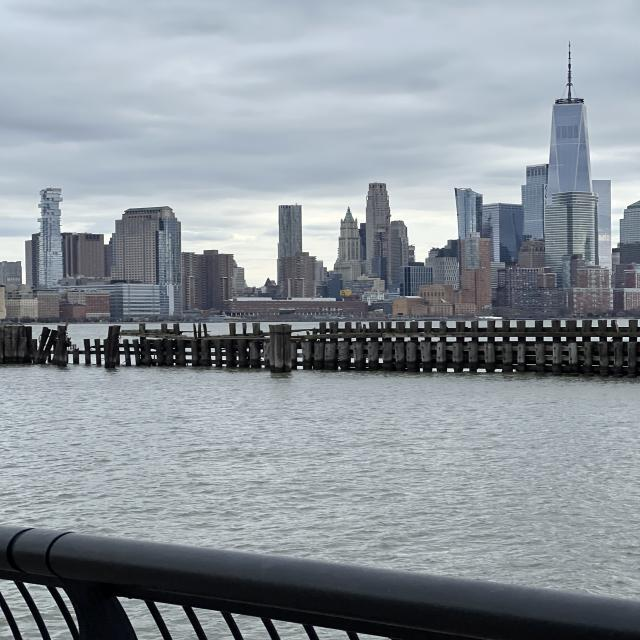WTC: (546, 41, 592, 194)
